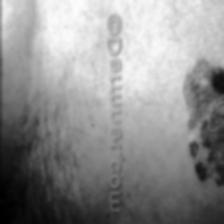Potentially Malignant Skin Tumors: (183, 56, 224, 190)
